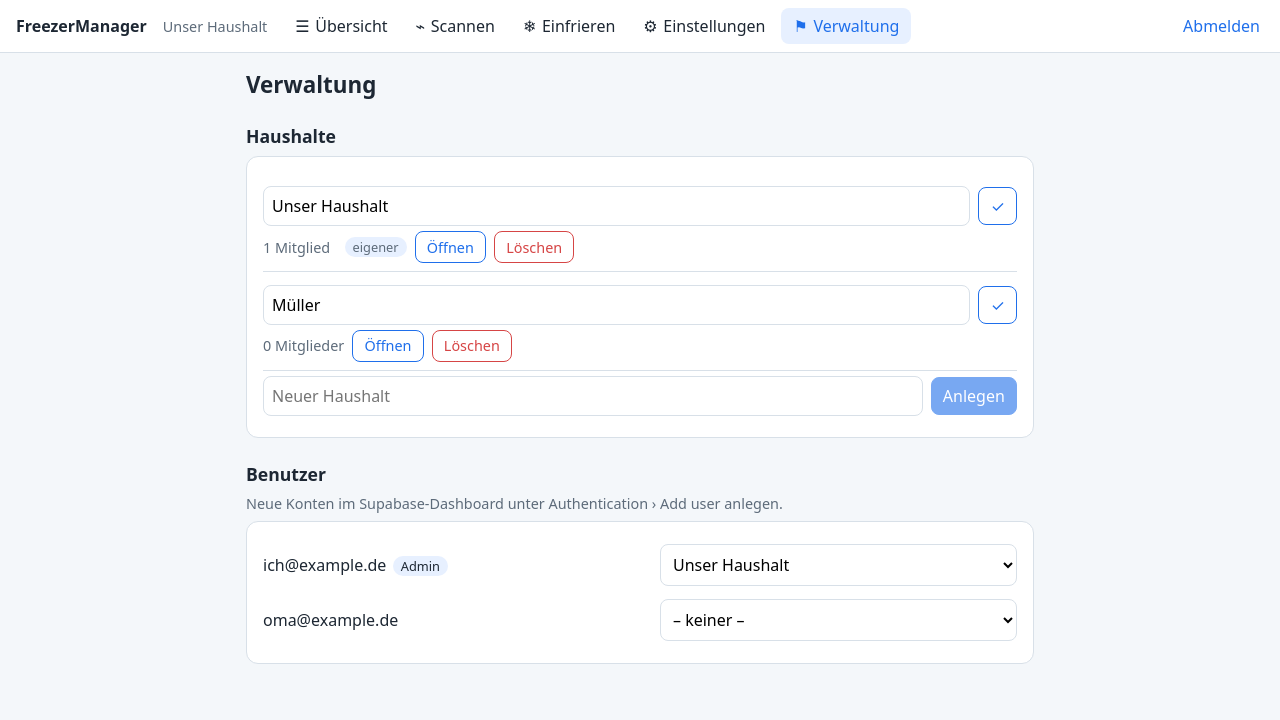
Test: assigns a user to a household
The width and height of the screenshot is (1280, 720).
Step 1. Select "Müller" in the dropdown named "Haushalt von oma@example.de" → (838, 620), box [660,599,1017,641]
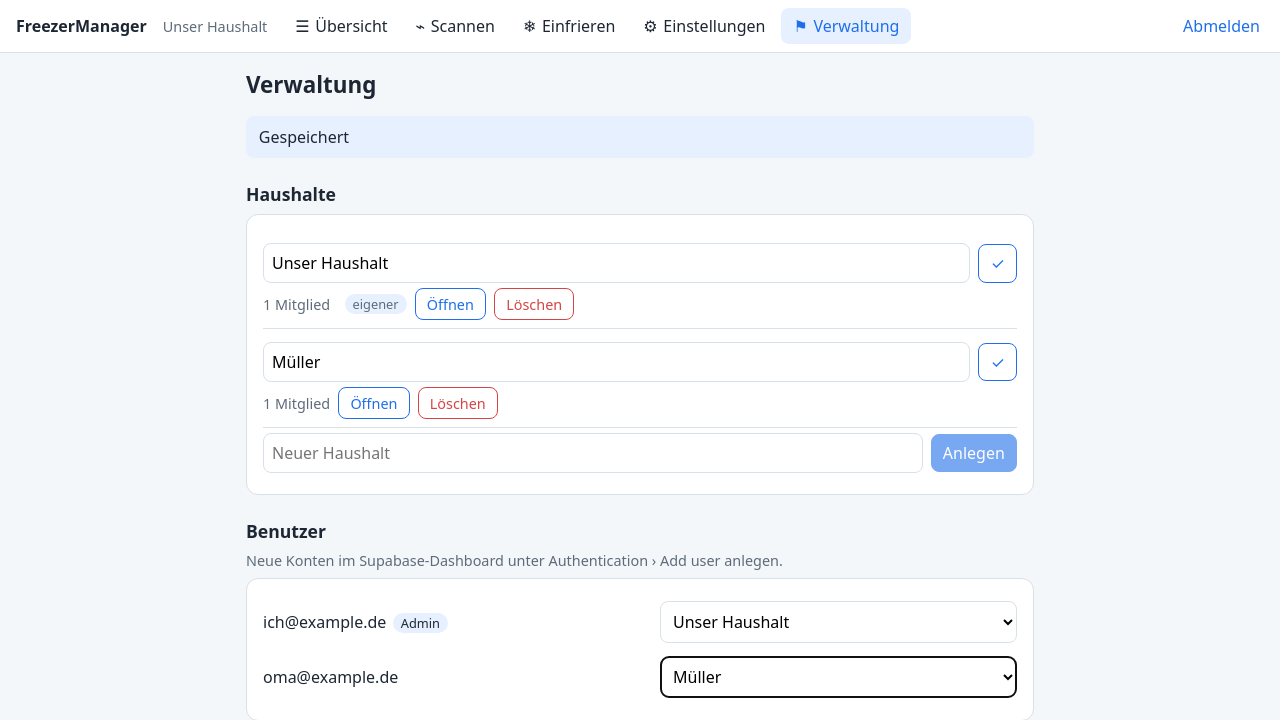
Expected: the 2nd text "1 Mitglied" is shown, [263,394,330,412]
